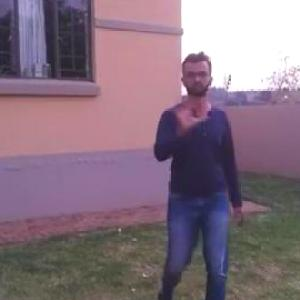follow_hand: (171, 87, 206, 130)
